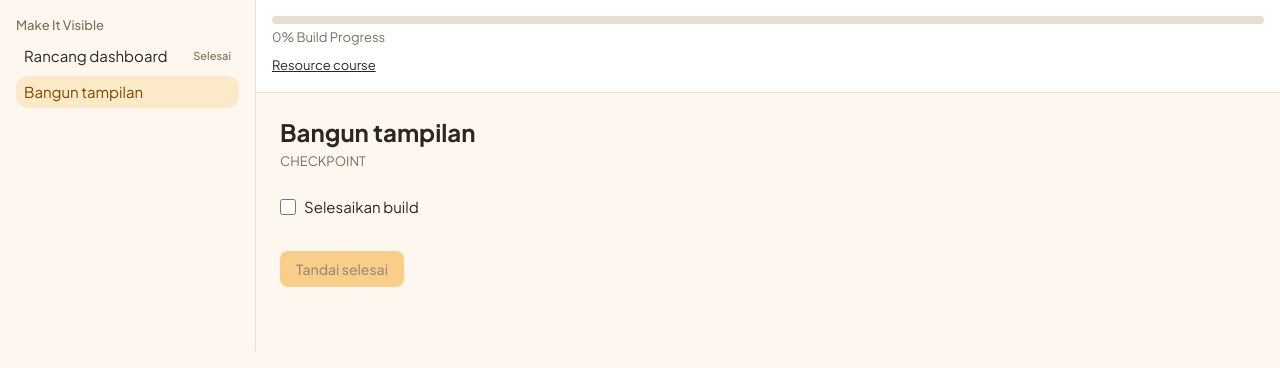
LessonPage › disables 'Tandai selesai' for a CHECKPOINT lesson until every task item is checked
Expected: the button "Tandai selesai" is disabled, top-left (280, 251), bottom-right (404, 287)
Click the checkbox labelled "Selesaikan build": (288, 207) top-left (280, 199), bottom-right (296, 215)
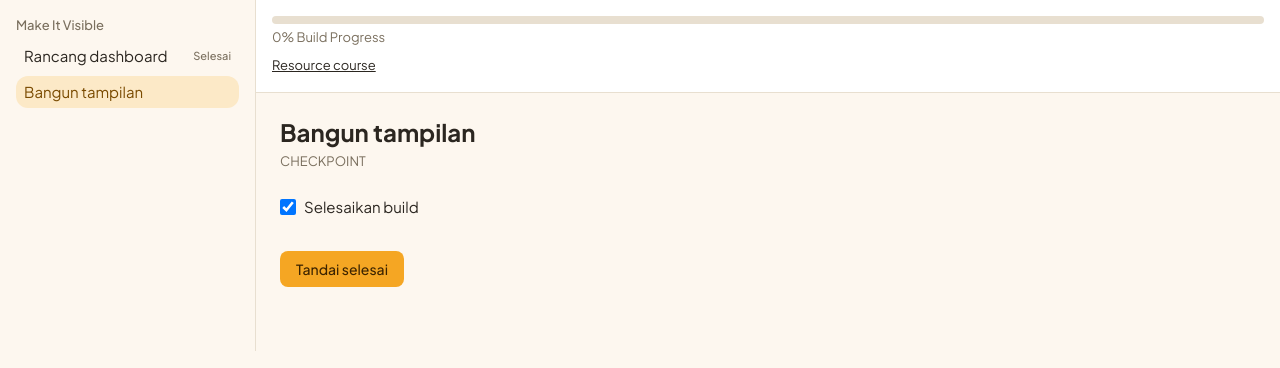
Expected: the button "Tandai selesai" is enabled, top-left (280, 251), bottom-right (404, 287)
